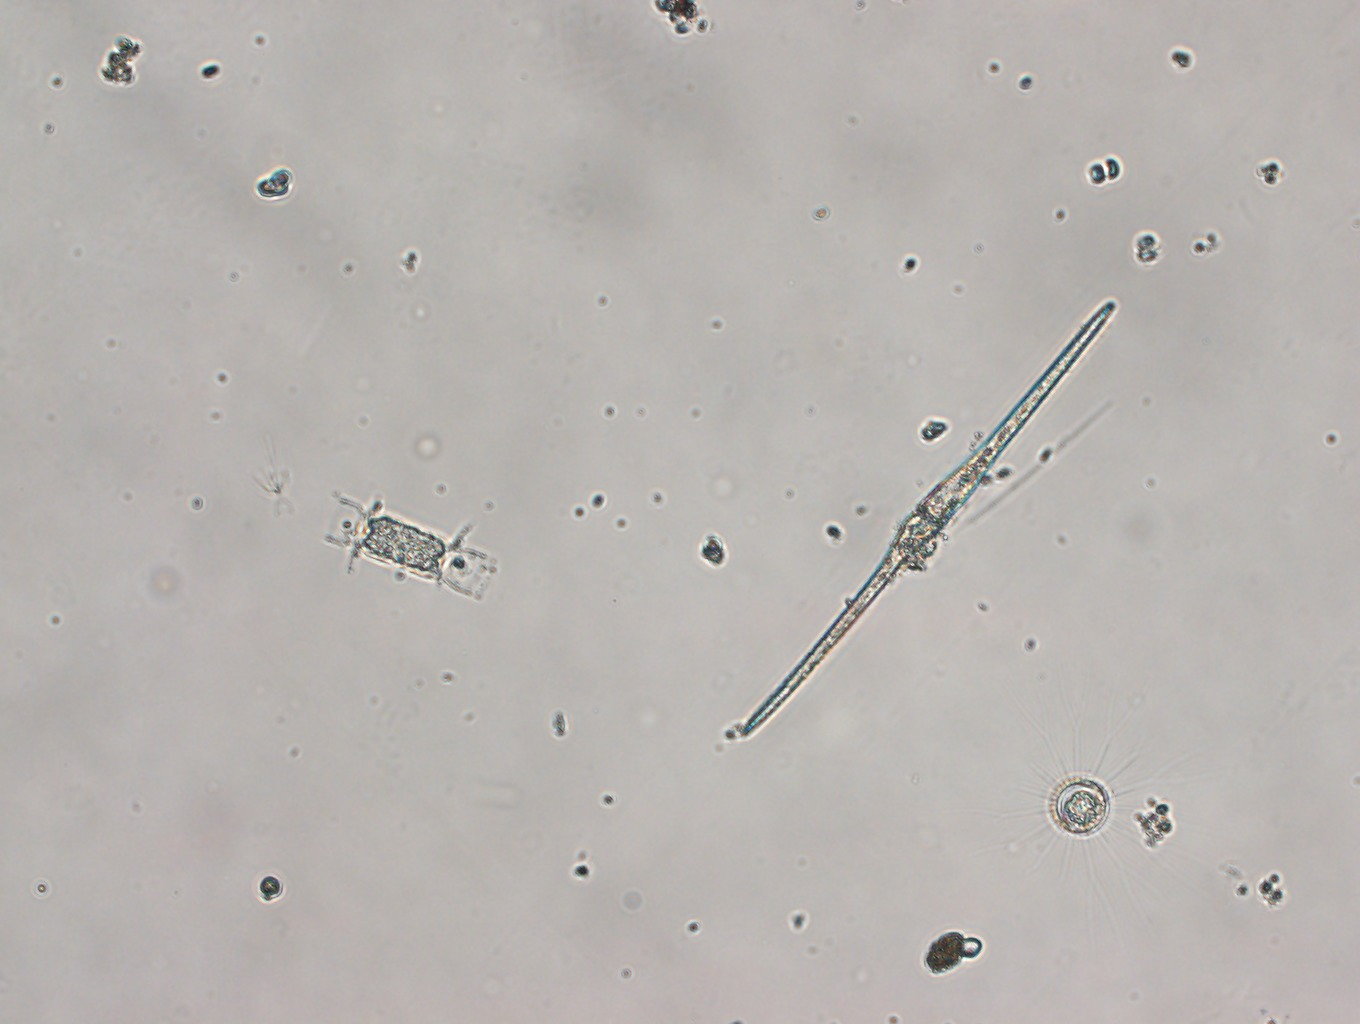ceratium fusus: (739, 296, 1118, 740)
chaetoceros: (324, 495, 499, 606)
